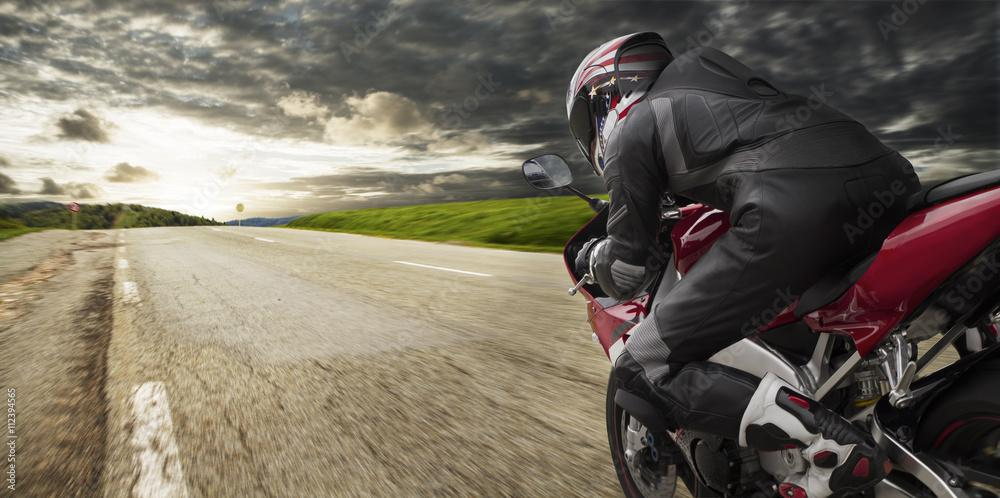helmet: (565, 30, 686, 179)
